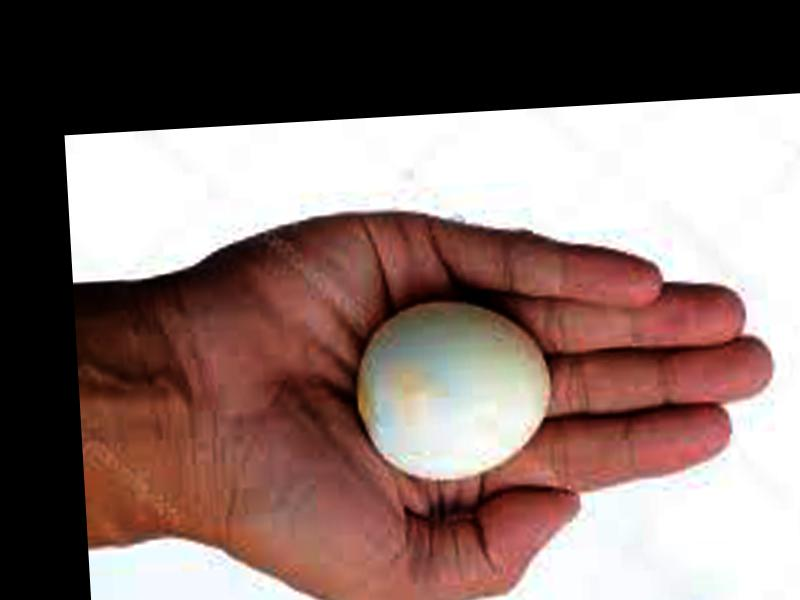Eggs: (352, 298, 558, 481)
